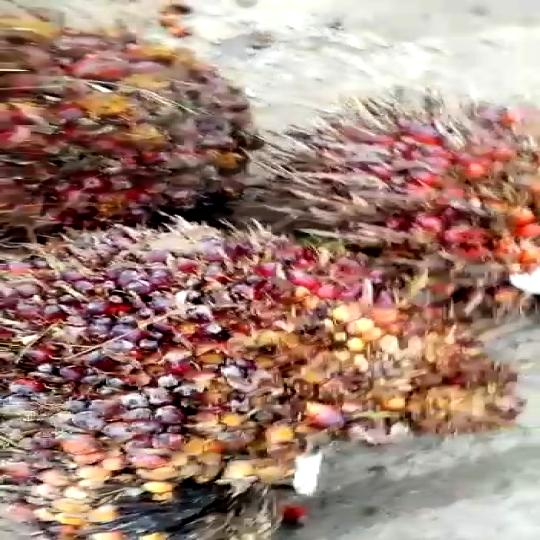masak: (0, 218, 507, 540), (283, 86, 540, 336)
